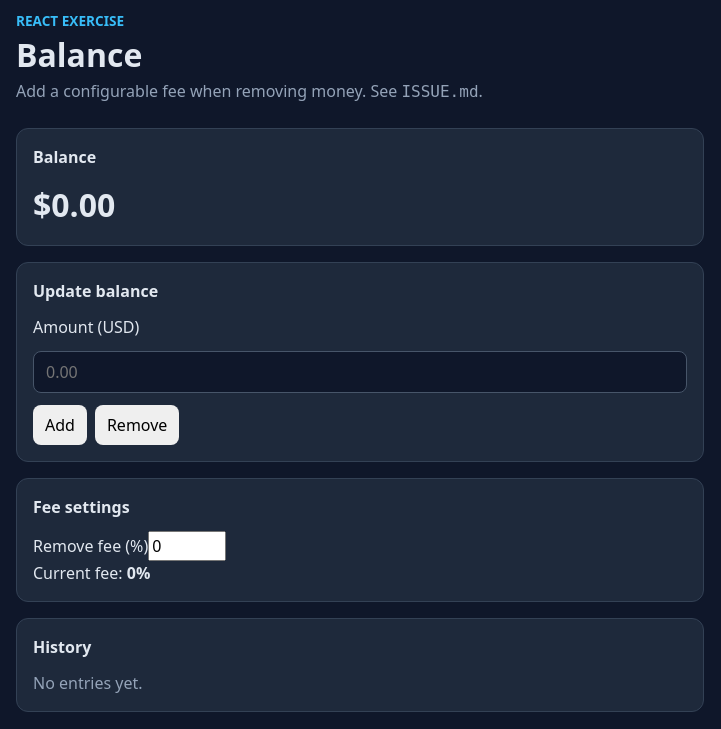
Test: App › allows maximum fee of 5%
Replace the text in the number field labelled "Remove fee (%)" with "5" at [187, 546], box [148, 531, 226, 561]
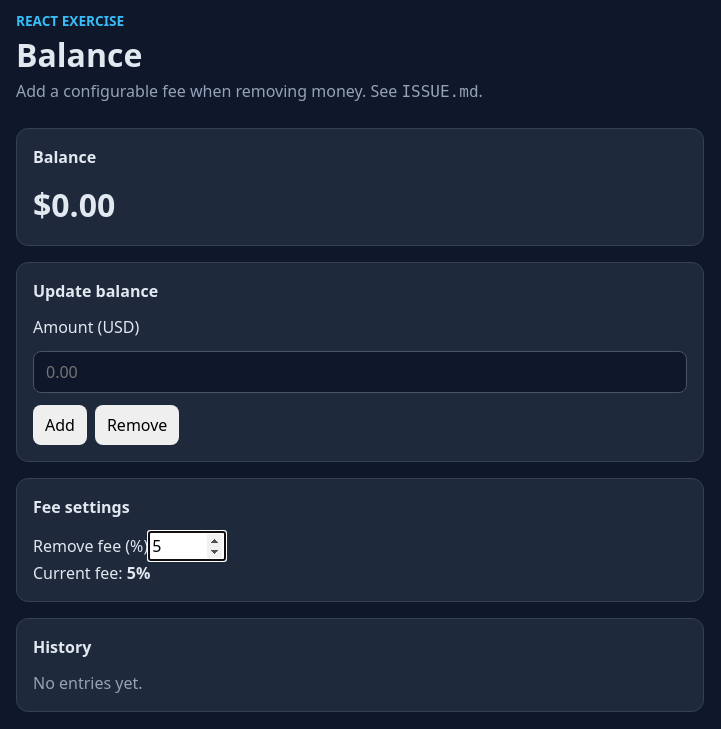
Result: the text "Current fee:" shows "5%" at [33, 562, 150, 584]
